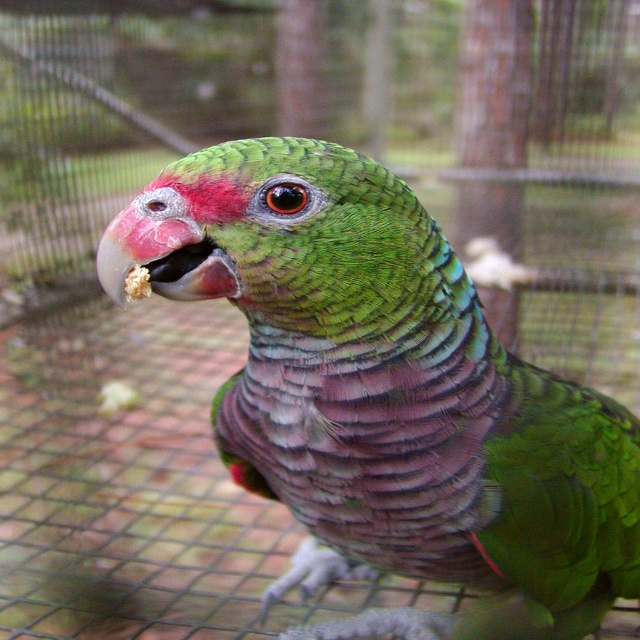Parrot: (93, 136, 639, 640)
